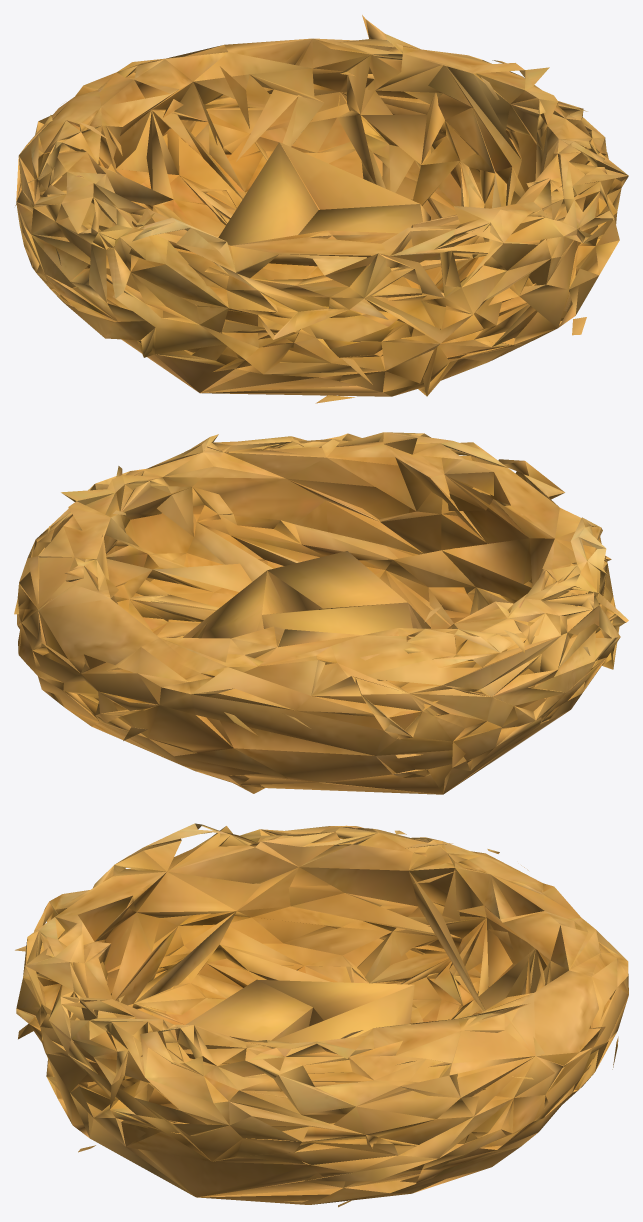
File: dinoNestV2.glb
3 views of the same model, one above another, from view 1: azimuth 30°, elevation 25°; view 2: azimuth 150°, elevation 25°; view 3: azimuth 270°, elevation 25° (orthographic).
Visible parts, largest first — view 1: model; view 2: model; view 3: model.
Boxes of the visible parts, x1,y1,x2,y2 form: model: [15, 15, 628, 403]; model: [14, 432, 628, 794]; model: [15, 823, 628, 1207].
Size of the model in its own units: 1.86 by 0.6251 by 1.8.
Materials: 1 (1 with a texture image).
